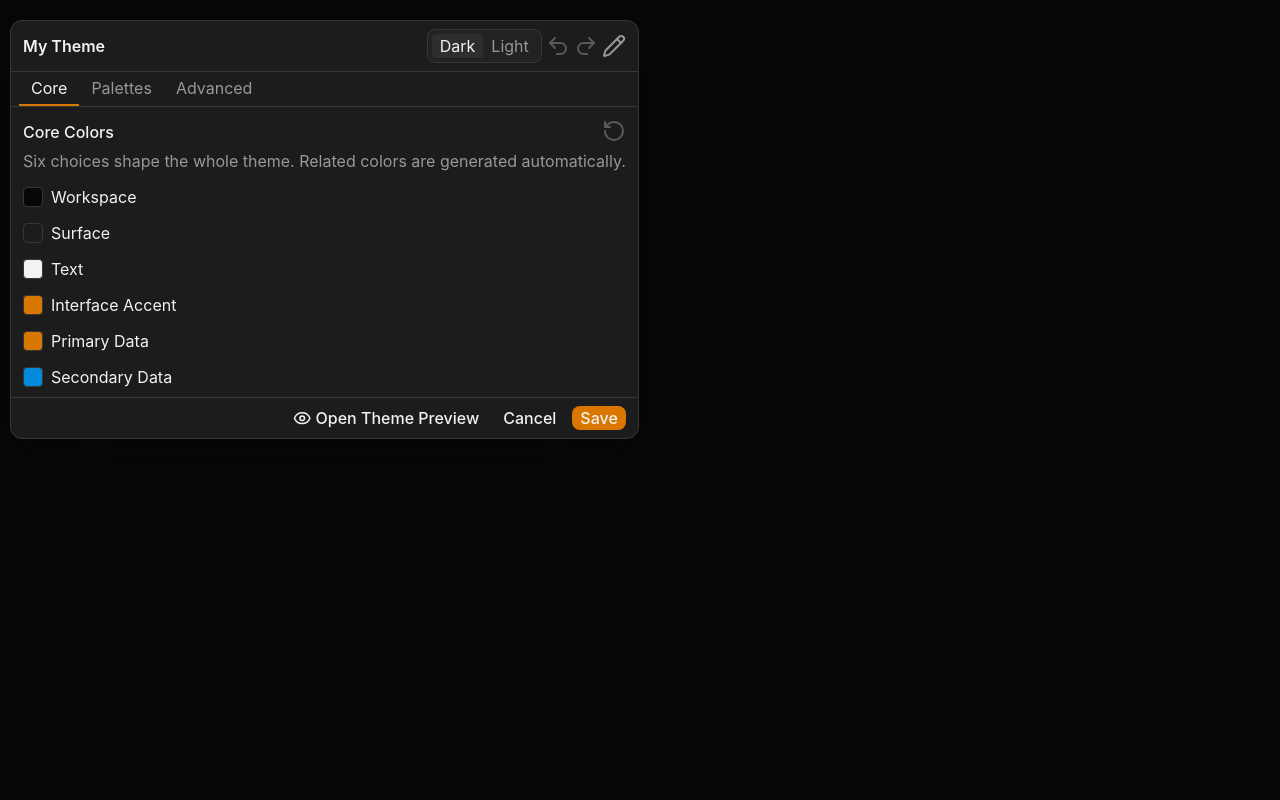
ThemeEditor › groups Status, Intensity, Frequency, and Interface on one palettes page
The image size is (1280, 800).
Click the tab "Palettes": x=122, y=89 top-left (79, 72), bottom-right (164, 106)
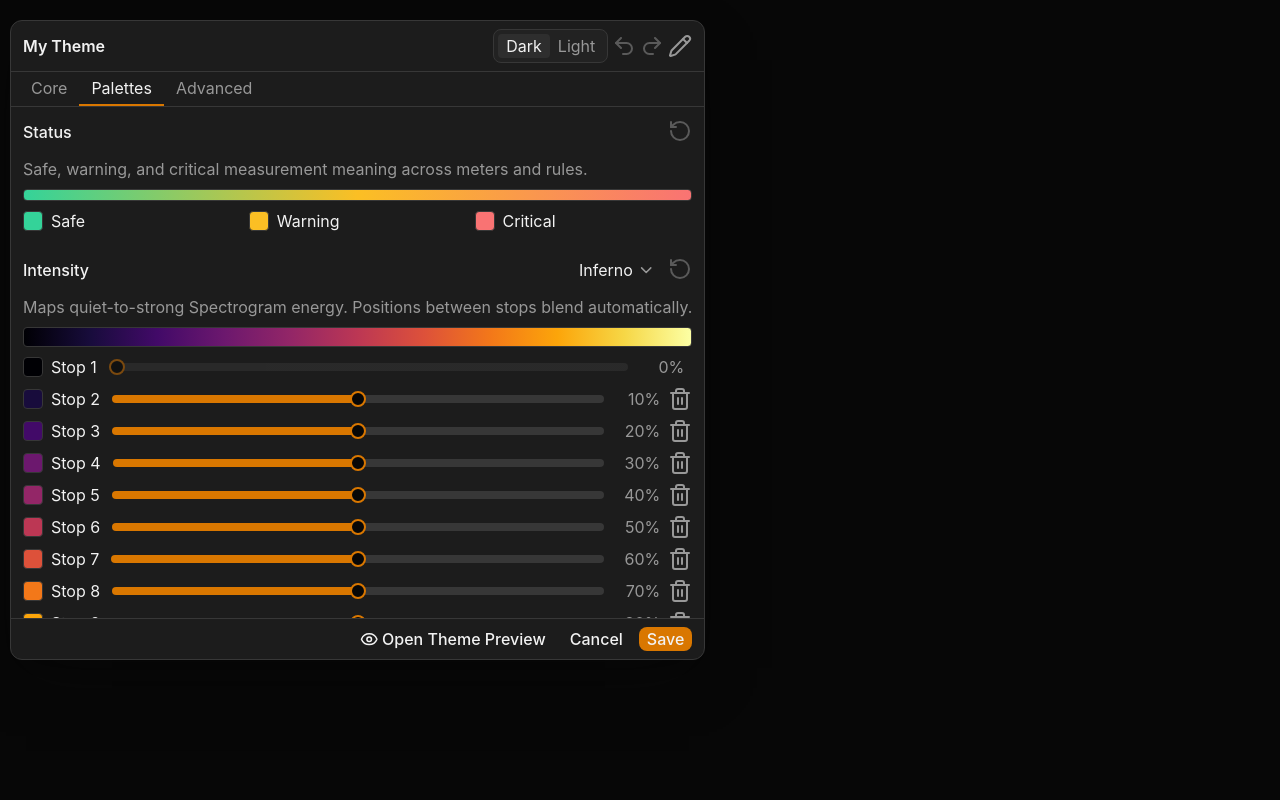
Expected: the text "Status" is shown, top-left (23, 124), bottom-right (72, 140)
Expected: the text "Intensity" is shown, top-left (23, 262), bottom-right (89, 278)
Expected: the element named "Intensity palette preview" is shown, top-left (23, 327), bottom-right (692, 347)
